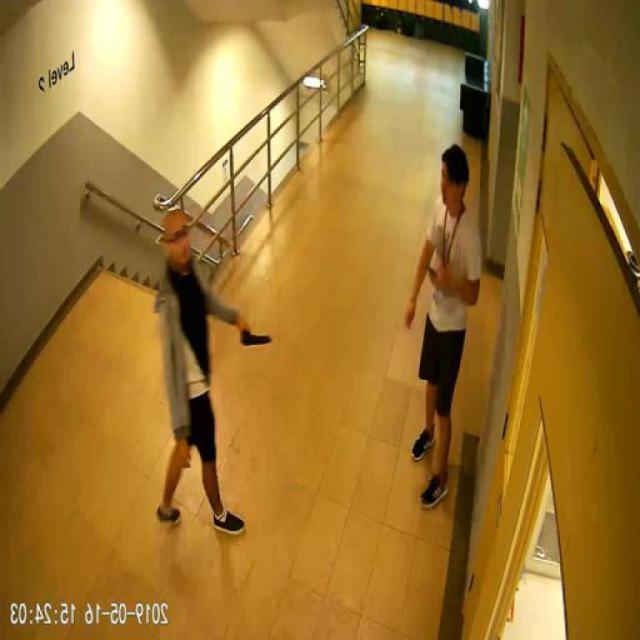pistol: (242, 322, 274, 346)
